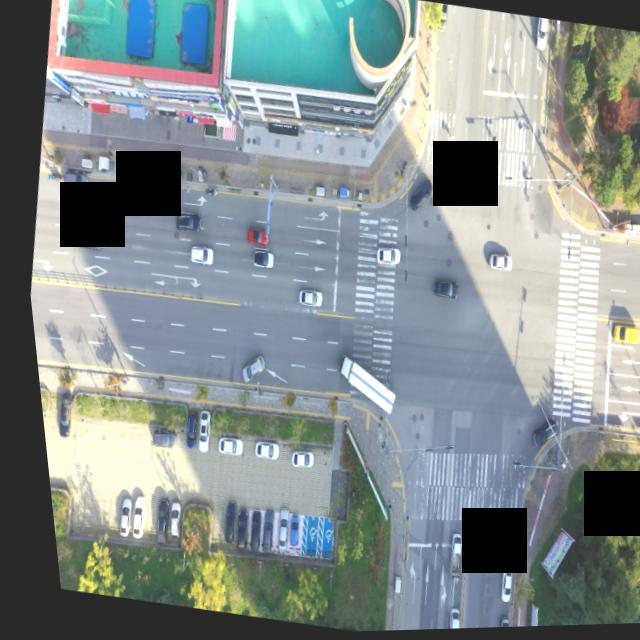car: (230, 353, 261, 385)
medium_truck: (324, 353, 396, 419)
small_truck: (430, 531, 456, 583)
